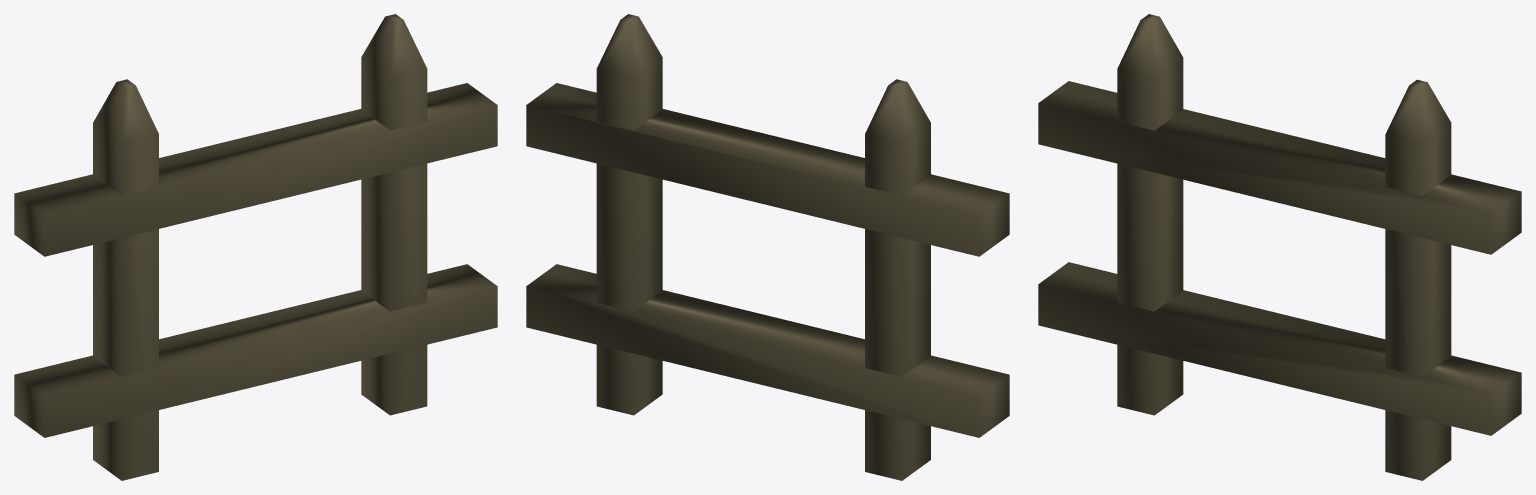
Rendered from Fence.fbx.
3 renders of one model, left to right at view 1: azimuth 30°, elevation 25°; view 2: azimuth 150°, elevation 25°; view 3: azimuth 330°, elevation 25°, orthographic.
Visible parts, largest first — view 1: Fance; view 2: Fance; view 3: Fance.
Part boxes in pixels (<box>): Fance: <box>14,14,497,480</box>; Fance: <box>526,14,1009,480</box>; Fance: <box>1038,14,1521,480</box>.
Size of the model in its own units: 362 by 41.88 by 292.
